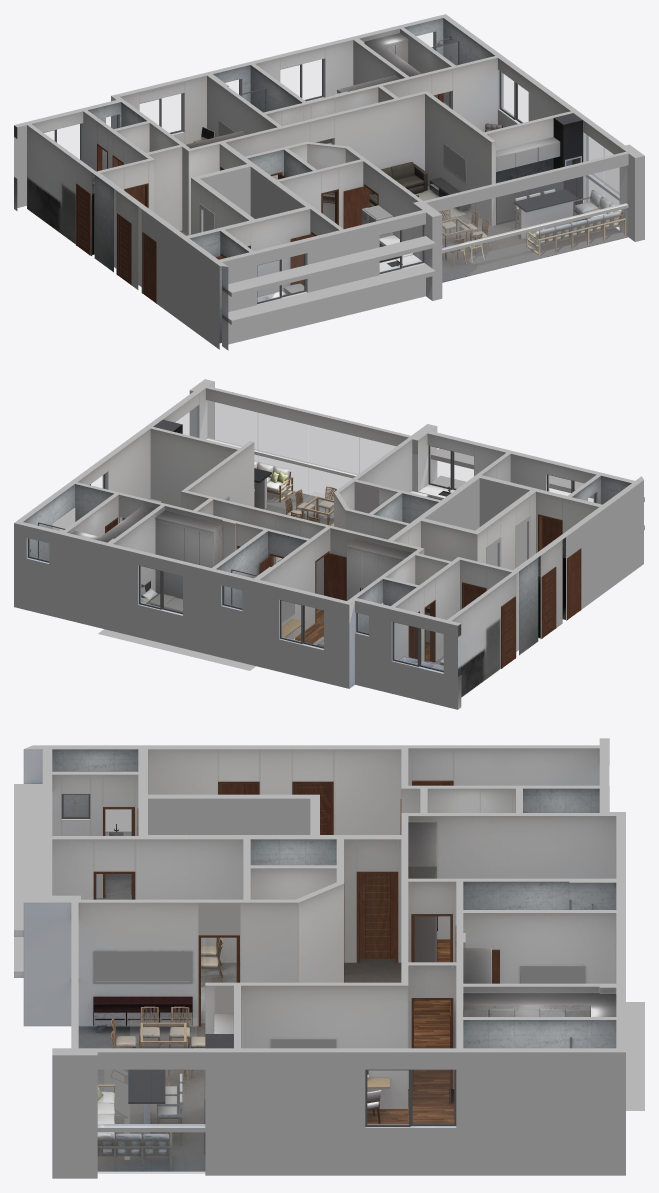
The model's file is 3Bedroom.glb.
3 views of the same model, one above another, from view 1: azimuth 30°, elevation 25°; view 2: azimuth 150°, elevation 25°; view 3: azimuth 270°, elevation 25° (orthographic). The views are drawn at different scales.
Parts seen in each view (by area): view 1: Layer:P06, Object163_parede_0, Object173_Material #2146796782_0, Object162_parede_0, Object164_parede_0, Object125_Material #2146796781_0, Plane013, Box172, Object160_Material #2146779762_0, Object149_Material #2146779762_0, Object159_Material #2146779762_0, Object179_Material #2146796779_0 (+5 smaller); view 2: Layer:P06, Object163_parede_0, Object162_parede_0, Object173_Material #2146796782_0, Object125_Material #2146796781_0, Object164_parede_0, Box172, Object160_Material #2146779762_0, Object179_Material #2146796779_0, PivotDoor024, Box180, Object098_Material #2146779925_0 (+8 smaller); view 3: Layer:P06, Object163_parede_0, Object162_parede_0, Object173_Material #2146796782_0, Object125_Material #2146796781_0, Plane013, Object164_parede_0, Object172_Material #2146796550 [ee93]_0, Plane004, Object099_Material #2146779925_0, Box172, Object160_Material #2146779762_0 (+7 smaller).
Part boxes in pixels (<box>): Layer:P06: <box>14,28,634,350</box>; Object163_parede_0: <box>14,120,644,344</box>; Object173_Material #2146796782_0: <box>185,33,625,301</box>; Object162_parede_0: <box>14,14,644,266</box>; Object164_parede_0: <box>141,166,305,349</box>; Object125_Material #2146796781_0: <box>88,18,494,343</box>; Plane013: <box>180,180,627,282</box>; Box172: <box>476,134,627,240</box>; Object160_Material #2146779762_0: <box>439,147,619,248</box>; Object149_Material #2146779762_0: <box>476,177,627,273</box>; Object159_Material #2146779762_0: <box>442,191,619,281</box>; Object179_Material #2146796779_0: <box>97,40,404,150</box>; Layer:P06: <box>26,381,598,709</box>; Object163_parede_0: <box>14,448,644,709</box>; Object162_parede_0: <box>14,379,643,625</box>; Object173_Material #2146796782_0: <box>71,419,453,646</box>; Object125_Material #2146796781_0: <box>23,476,631,655</box>; Object164_parede_0: <box>424,478,643,620</box>; Box172: <box>175,400,359,474</box>; Object160_Material #2146779762_0: <box>178,407,395,473</box>; Object179_Material #2146796779_0: <box>113,506,419,612</box>; PivotDoor024: <box>315,551,346,622</box>; Box180: <box>486,515,530,567</box>; Object098_Material #2146779925_0: <box>541,567,556,638</box>; Layer:P06: <box>14,738,616,1127</box>; Object163_parede_0: <box>14,784,644,1178</box>; Object162_parede_0: <box>23,738,625,1055</box>; Object173_Material #2146796782_0: <box>93,822,616,1171</box>; Object125_Material #2146796781_0: <box>52,749,616,1048</box>; Plane013: <box>78,959,401,1171</box>; Object164_parede_0: <box>148,798,310,834</box>; Object172_Material #2146796550 [ee93]_0: <box>93,951,585,1048</box>; Plane004: <box>367,939,454,1123</box>; Object099_Material #2146779925_0: <box>356,871,398,962</box>; Box172: <box>151,1070,204,1125</box>; Object160_Material #2146779762_0: <box>98,1070,150,1125</box>.
Size of the model in its own units: 15.7 by 2.85 by 13.2.
28 materials, 11 textured.
